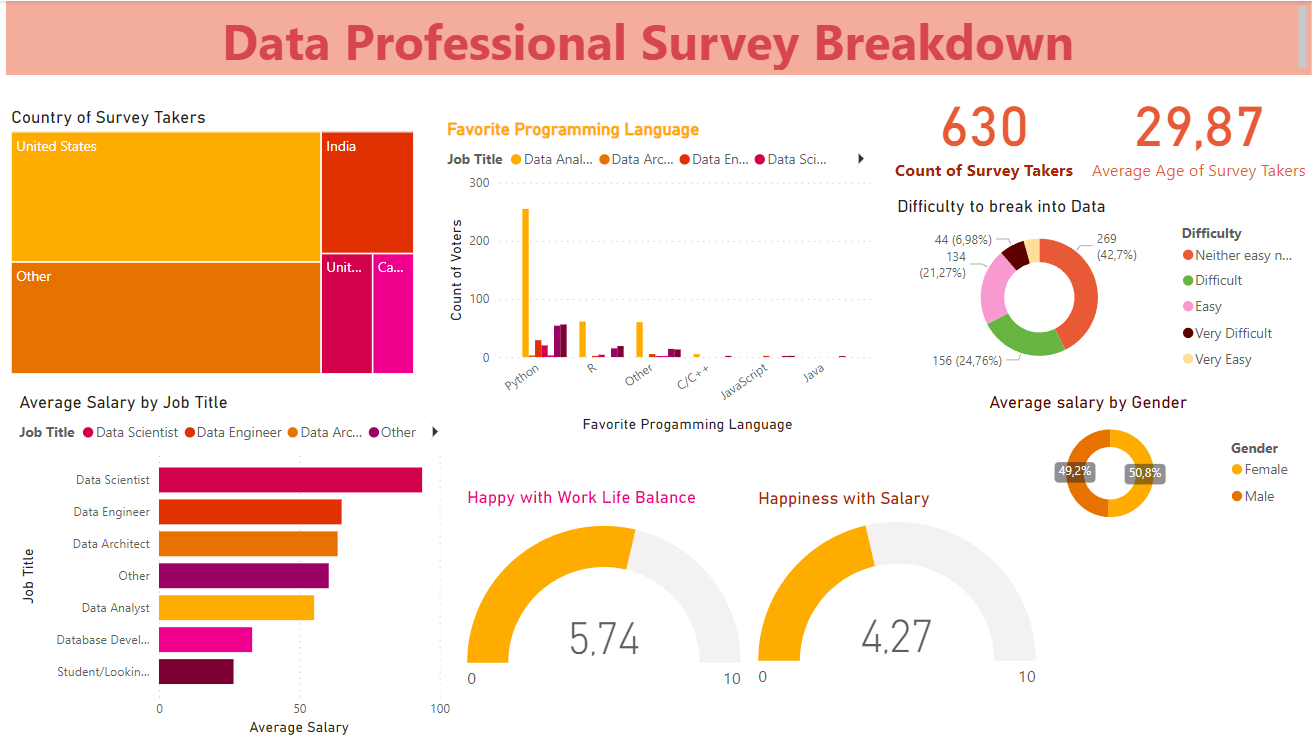

What the dashboard file says about the page in this screenshot:
{"tool":"powerbi","page":{"name":"Page 1","canvas":[1280,720],"ordinal":0},"visuals":[{"type":"textbox","box":[9.6,0,1270.4,72.4],"z":0},{"type":"card","fields":{"Values":["CountNonNull(Data Professional Survey.Unique ID)"]},"box":[860.4,72.4,200.2,107.6],"z":1000},{"type":"card","fields":{"Values":["Avg(Data Professional Survey.Q10 - Current Age)"]},"box":[1060.6,72.4,219.4,107.6],"z":2000},{"type":"barChart","title":"Average Salary by Job Title","fields":{"Category":["Data Professional Survey.Q1 - Which Title Best Fits your Current Role?.1"],"Y":["Avg(Data Professional Survey.Average Salary)"],"Series":["Data Professional Survey.Q1 - Which Title Best Fits your Current Role?.1"]},"box":[17.5,380.3,428.9,339.5],"z":3000},{"type":"clusteredColumnChart","title":"Favorite Programming Language","fields":{"Category":["Data Professional Survey.Q5 - Favorite Programming Language.1"],"Y":["CountNonNull(Data Professional Survey.Unique ID)"],"Series":["Data Professional Survey.Q1 - Which Title Best Fits your Current Role?.1"]},"box":[433.4,115,427,309.9],"z":4000},{"type":"treemap","title":"Country of Survey Takers","fields":{"Group":["Data Professional Survey.Q11 - Which Country do you live in?.1"],"Values":["CountNonNull(Data Professional Survey.Q11 - Which Country do you live in?.1)"]},"box":[9.7,103.1,401.7,264.6],"z":5000},{"type":"gauge","title":"Happy with Work Life Balance","fields":{"Y":["Avg(Data Professional Survey.Q6 - How Happy are you in your Current Position with the following? (Work/Life Balance))"],"MinValue":["Min(Data Professional Survey.Q6 - How Happy are you in your Current Position with the following? (Work/Life Balance))"],"MaxValue":["Max(Data Professional Survey.Q6 - How Happy are you in your Current Position with the following? (Work/Life Balance))1"]},"box":[453.3,472.7,276.2,220.8],"z":6000},{"type":"gauge","title":"Happiness with Salary","fields":{"Y":["Avg(Data Professional Survey.Q6 - How Happy are you in your Current Position with the following? (Salary))"],"MinValue":["Min(Data Professional Survey.Q6 - How Happy are you in your Current Position with the following? (Salary))"],"MaxValue":["Max(Data Professional Survey.Q6 - How Happy are you in your Current Position with the following? (Salary))"]},"box":[736.3,473.7,280.1,213],"z":7000},{"type":"donutChart","title":"Average salary by Gender","fields":{"Category":["Data Professional Survey.Q9 - Male/Female?"],"Y":["Avg(Data Professional Survey.Average Salary)"]},"box":[961,380.3,311.2,139.1],"z":8000},{"type":"donutChart","title":"Difficulty to break into Data ","fields":{"Category":["Data Professional Survey.Q7 - How difficult was it for you to break into Data?"],"Y":["CountNonNull(Data Professional Survey.Q9 - Male/Female?)"]},"box":[871.5,189.7,405.6,178],"z":9000}]}

Visuals, with their boxes in screenshot pixels (x1, y1, x2, y2), scaled from the page's 1280x720 canvas onto the 1312x740 screenshot:
textbox: bbox=[10, 0, 1311, 74]
card - CountNonNull(Data Professional Survey.Unique ID): bbox=[882, 74, 1087, 185]
card - Avg(Data Professional Survey.Q10 - Current Age): bbox=[1087, 74, 1311, 185]
"Average Salary by Job Title" barChart: bbox=[18, 391, 458, 739]
"Favorite Programming Language" clusteredColumnChart: bbox=[444, 118, 882, 437]
"Country of Survey Takers" treemap: bbox=[10, 106, 422, 378]
"Happy with Work Life Balance" gauge: bbox=[465, 486, 748, 713]
"Happiness with Salary" gauge: bbox=[755, 487, 1042, 706]
"Average salary by Gender" donutChart: bbox=[985, 391, 1304, 534]
"Difficulty to break into Data " donutChart: bbox=[893, 195, 1309, 378]
